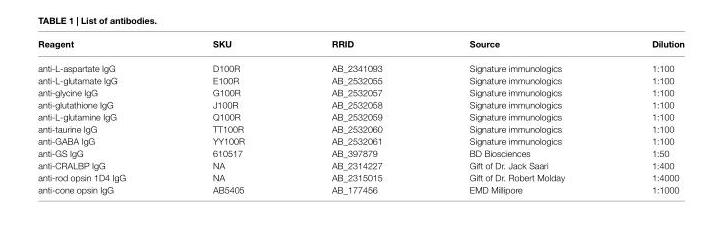table: (37, 37, 683, 194)
table column: (425, 37, 607, 194), (287, 37, 425, 194), (37, 37, 168, 194), (168, 37, 287, 194), (607, 37, 683, 194)
table column header: (37, 37, 683, 55)
table row: (37, 37, 683, 55), (37, 55, 683, 73), (37, 85, 683, 98), (37, 73, 683, 85), (37, 98, 683, 110), (37, 110, 683, 122), (37, 122, 683, 134), (37, 134, 683, 146), (37, 146, 683, 158), (37, 158, 683, 170), (37, 170, 683, 182), (37, 182, 683, 194)
